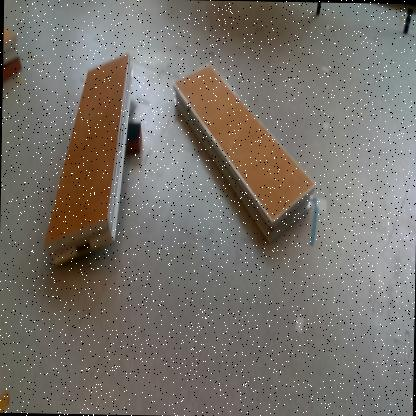Stairs: (173, 63, 317, 245), (43, 52, 135, 269), (3, 25, 18, 69)
